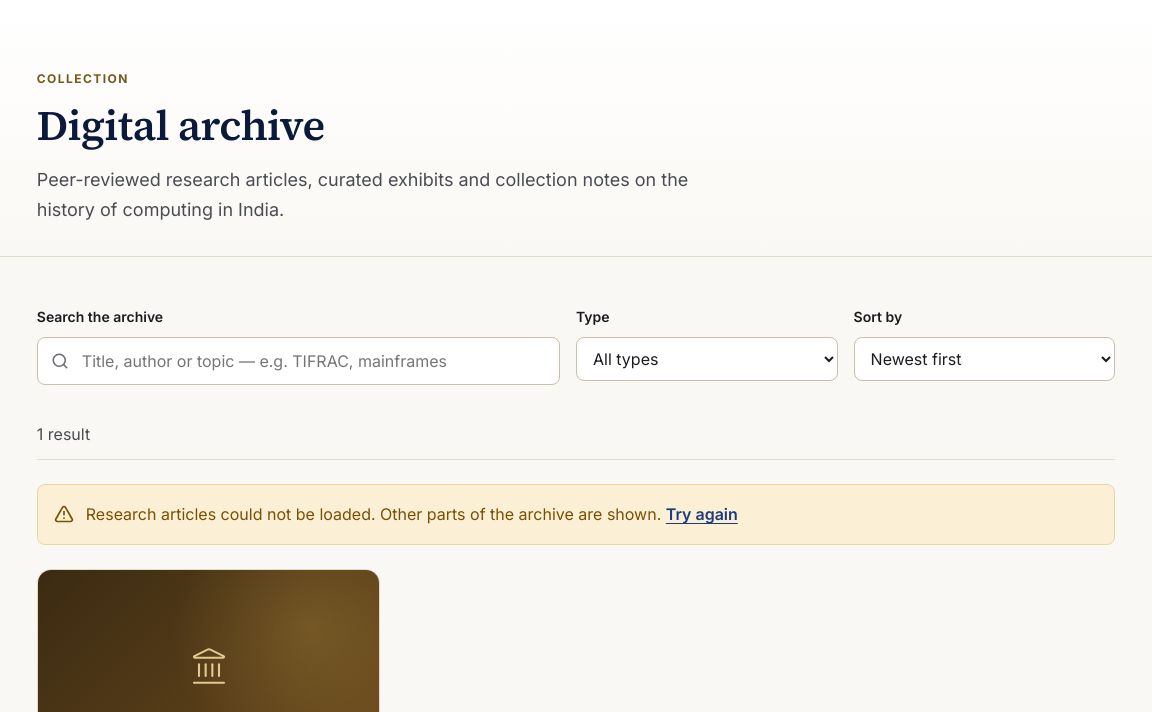
Test: public article route › archive page reports partial failures but still lists other sources
Expected: the text "Research articles could not be loaded" is shown, [86,504,376,524]
In the search field labelled "Search the archive": (298, 361) [37,337,560,385], type "zzzz"
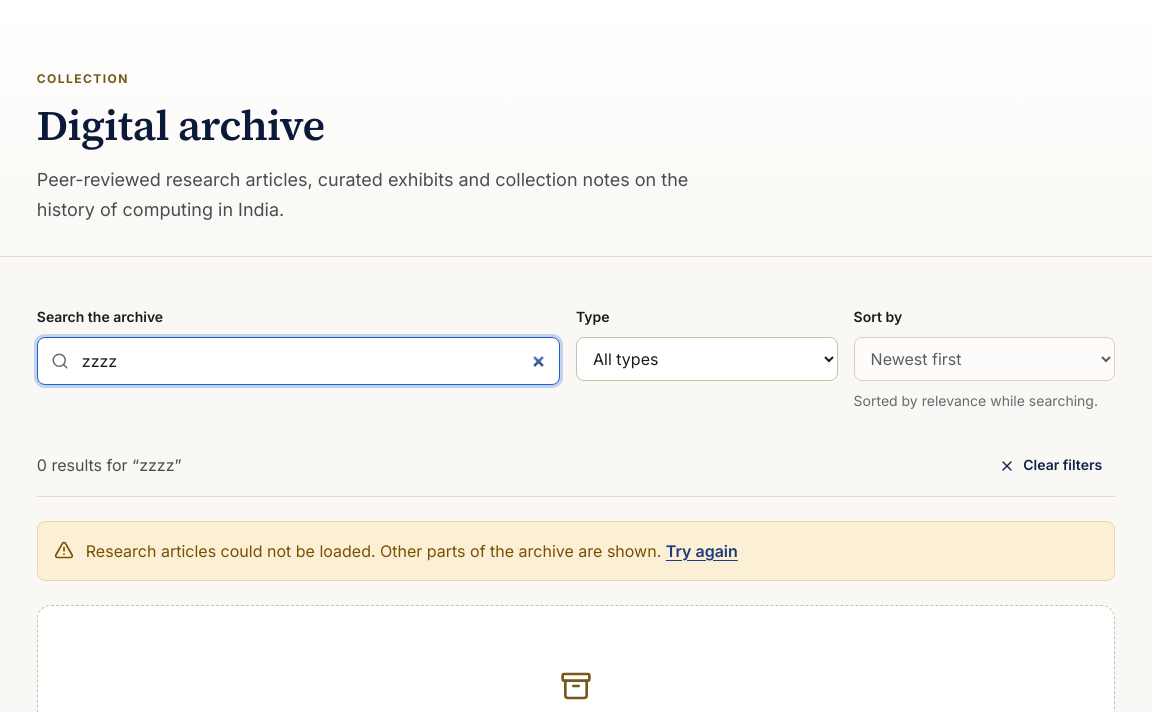
Now the message reads "0 results for “zzzz”", box [37,456,182,476]
